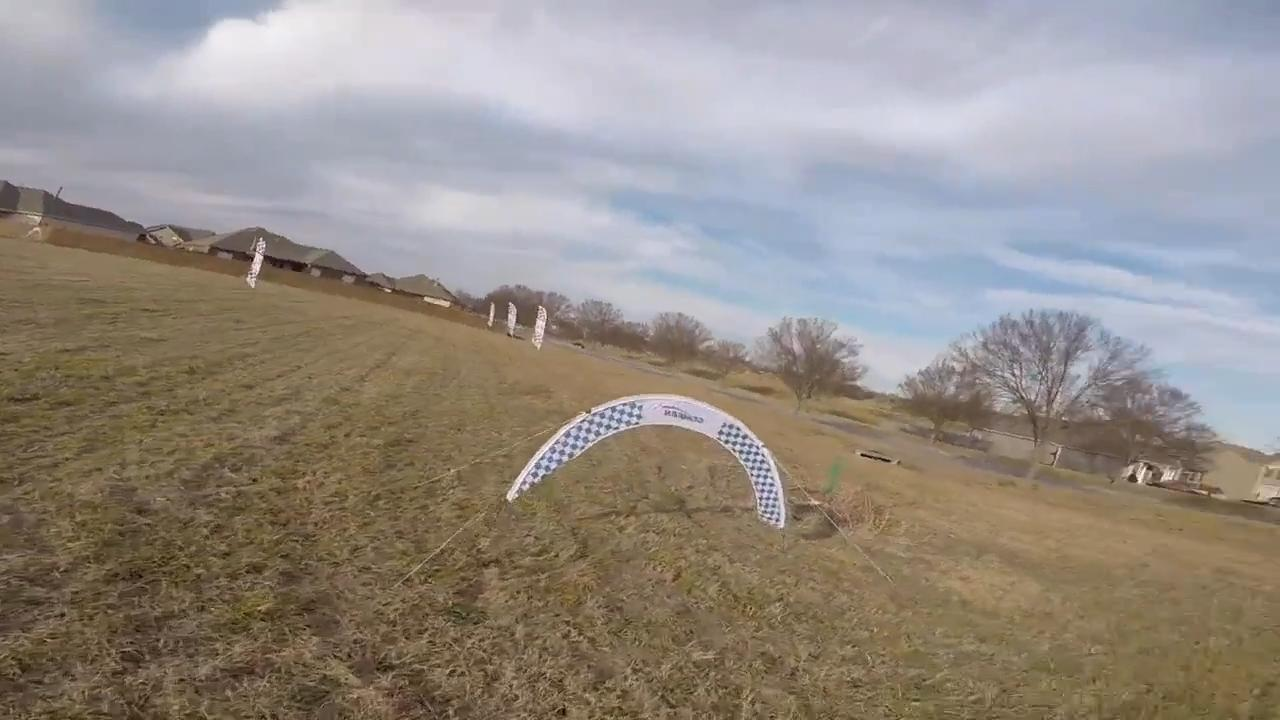gate: (502, 389, 787, 536)
